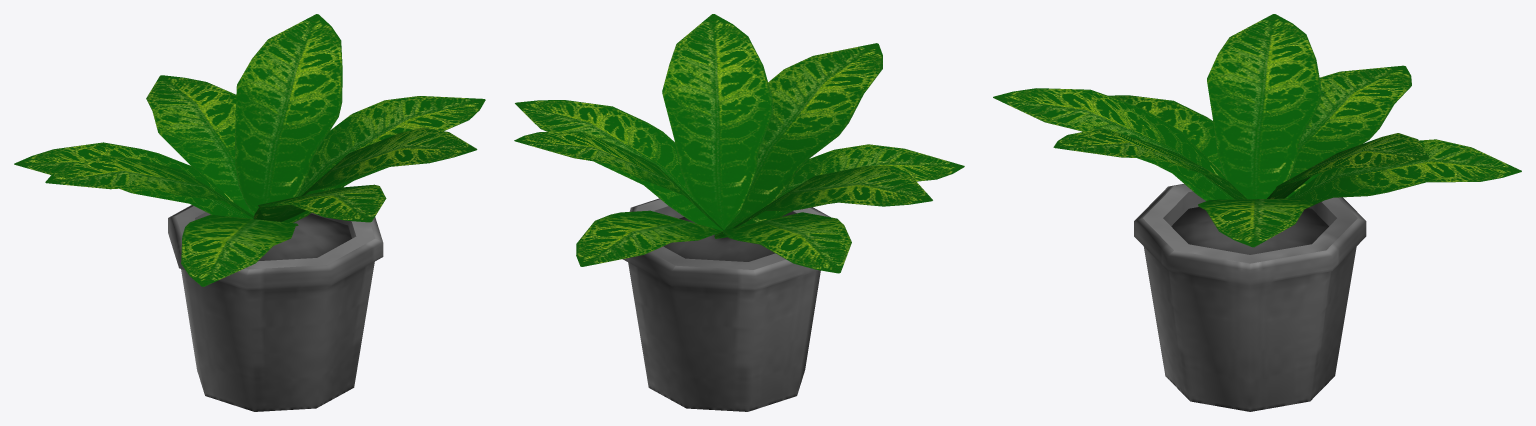
File: Plant.fbx
The picture shows the model from 3 angles, left to right: view 1: azimuth 30°, elevation 25°; view 2: azimuth 150°, elevation 25°; view 3: azimuth 270°, elevation 25°; orthographic projection. The views are drawn at different scales.
Visible parts, largest first — view 1: polySurface19, pCylinder1; view 2: polySurface19, pCylinder1; view 3: polySurface19, pCylinder1.
Boxes of the visible parts, x1,y1,x2,y2 form: polySurface19: [14, 14, 485, 286]; pCylinder1: [168, 205, 383, 411]; polySurface19: [514, 14, 964, 273]; pCylinder1: [622, 198, 830, 411]; polySurface19: [993, 14, 1521, 247]; pCylinder1: [1134, 184, 1366, 411].
Bounding box in the file's own units: 202 × 122 × 207.
Materials: 2 (2 with a texture image).
